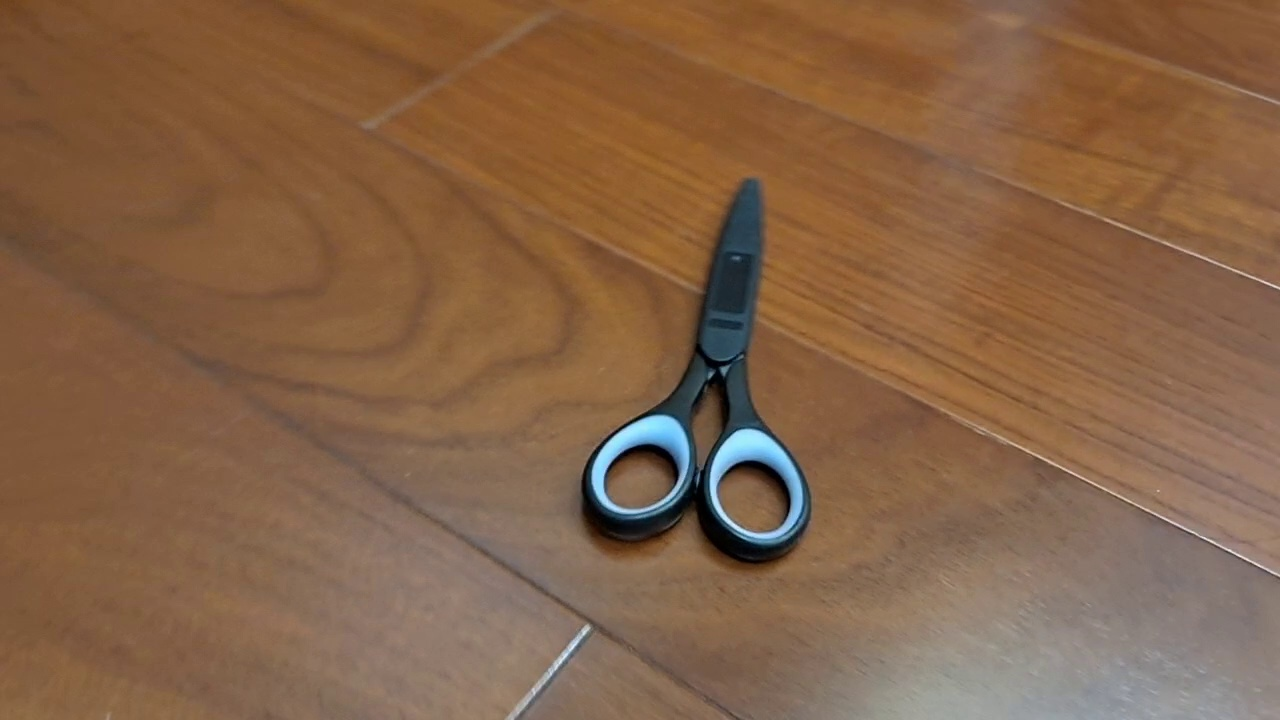scissors: (578, 173, 813, 566)
